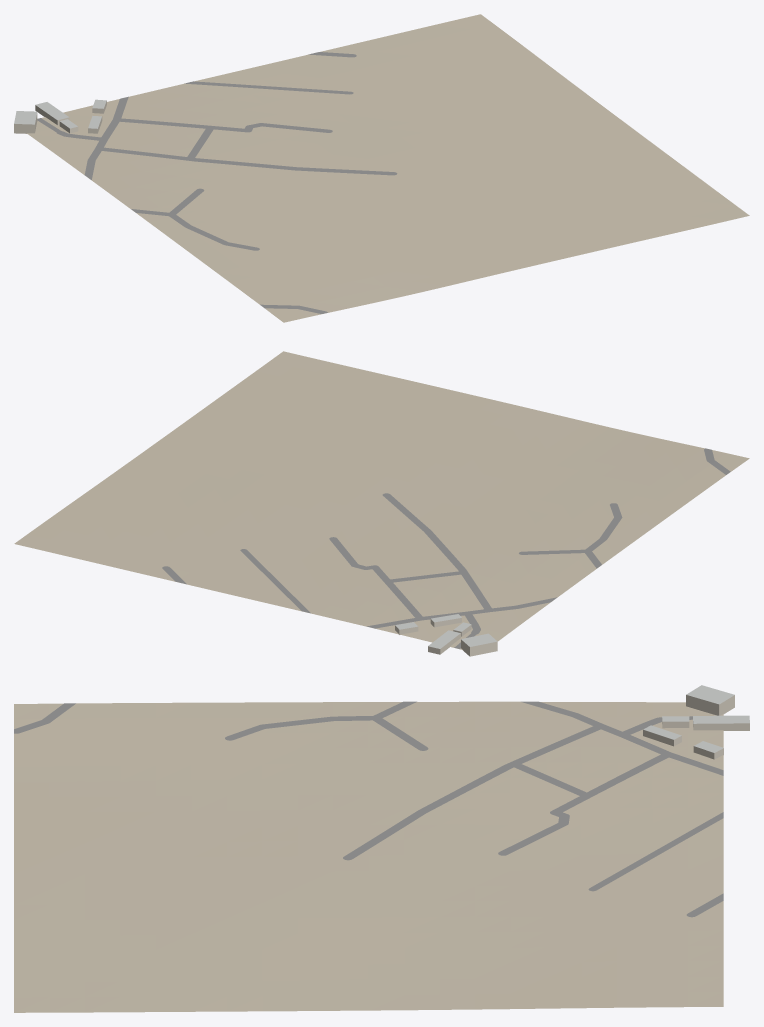
The model's file is bolak_2_9.glb.
The picture shows the model from 3 angles, top to bottom: view 1: azimuth 30°, elevation 25°; view 2: azimuth 150°, elevation 25°; view 3: azimuth 270°, elevation 25°; orthographic projection. The views are drawn at different scales.
Visible parts, largest first — view 1: Yer_Tuproq-col, Yol_Mahalla-col, Tom_Shifer, Devor_Suvoq-col; view 2: Yer_Tuproq-col, Yol_Mahalla-col, Devor_Suvoq-col, Tom_Shifer; view 3: Yer_Tuproq-col, Yol_Mahalla-col, Devor_Suvoq-col, Tom_Shifer.
Boxes of the visible parts, x1=… form: Yer_Tuproq-col: x1=26, y1=14, x2=749, y2=322; Yol_Mahalla-col: x1=37, y1=52, x2=397, y2=313; Tom_Shifer: x1=14, y1=99, x2=106, y2=128; Devor_Suvoq-col: x1=14, y1=101, x2=106, y2=133; Yer_Tuproq-col: x1=14, y1=351, x2=749, y2=654; Yol_Mahalla-col: x1=162, y1=448, x2=730, y2=648; Devor_Suvoq-col: x1=395, y1=618, x2=497, y2=656; Tom_Shifer: x1=395, y1=614, x2=497, y2=648; Yer_Tuproq-col: x1=14, y1=701, x2=723, y2=1012; Yol_Mahalla-col: x1=14, y1=701, x2=723, y2=917; Devor_Suvoq-col: x1=643, y1=695, x2=749, y2=759; Tom_Shifer: x1=643, y1=685, x2=749, y2=752.
Size of what is drawn, in the model's own units: 408 by 13.8 by 415.
